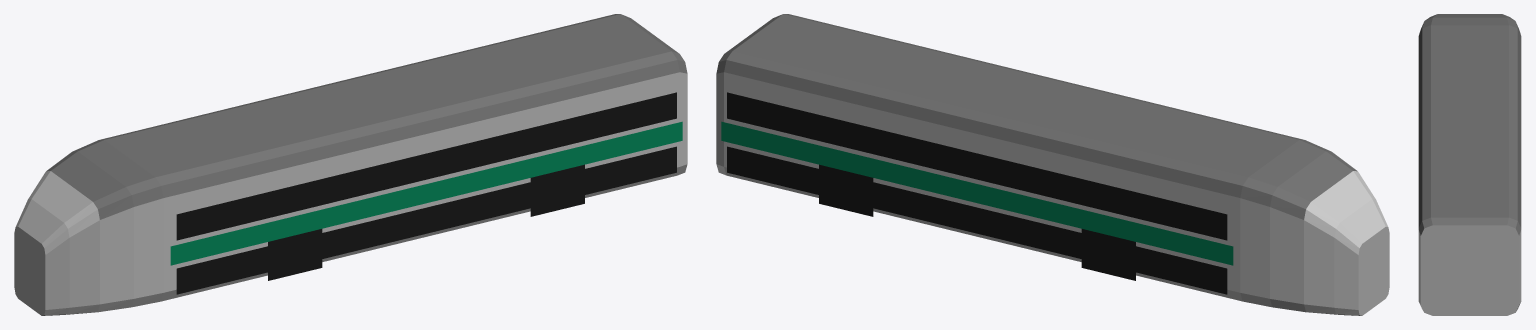
Rendered from rer_generic_D__cab.glb.
3 renders of one model, left to right at view 1: azimuth 30°, elevation 25°; view 2: azimuth 150°, elevation 25°; view 3: azimuth 270°, elevation 25°, orthographic. The views are drawn at different scales.
Visible parts, largest first — view 1: rer_generic_D__cab; view 2: rer_generic_D__cab; view 3: rer_generic_D__cab.
Boxes of the visible parts, <box> form: rer_generic_D__cab: <box>14,14,687,315</box>; rer_generic_D__cab: <box>716,14,1389,315</box>; rer_generic_D__cab: <box>1418,14,1521,315</box>.
Bounding box in the file's own units: 15 × 2.85 × 2.83.
